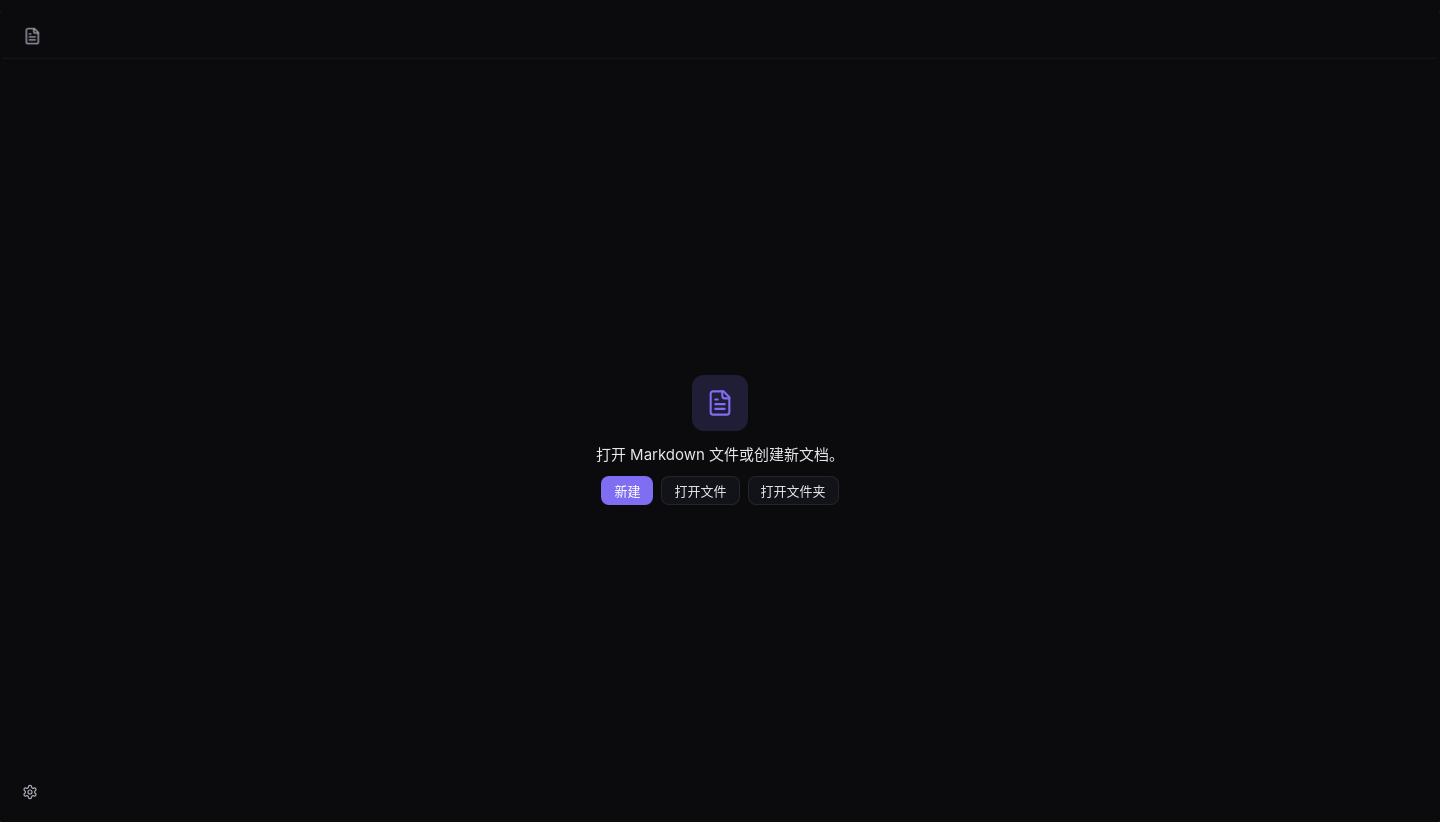
Scenario: AppShell custom file header › runs 新建 from the menu, closes it, and keeps focus on the toggle
The width and height of the screenshot is (1440, 822).
Click the button named "文件" at (32, 36), box [14,18,50,54]
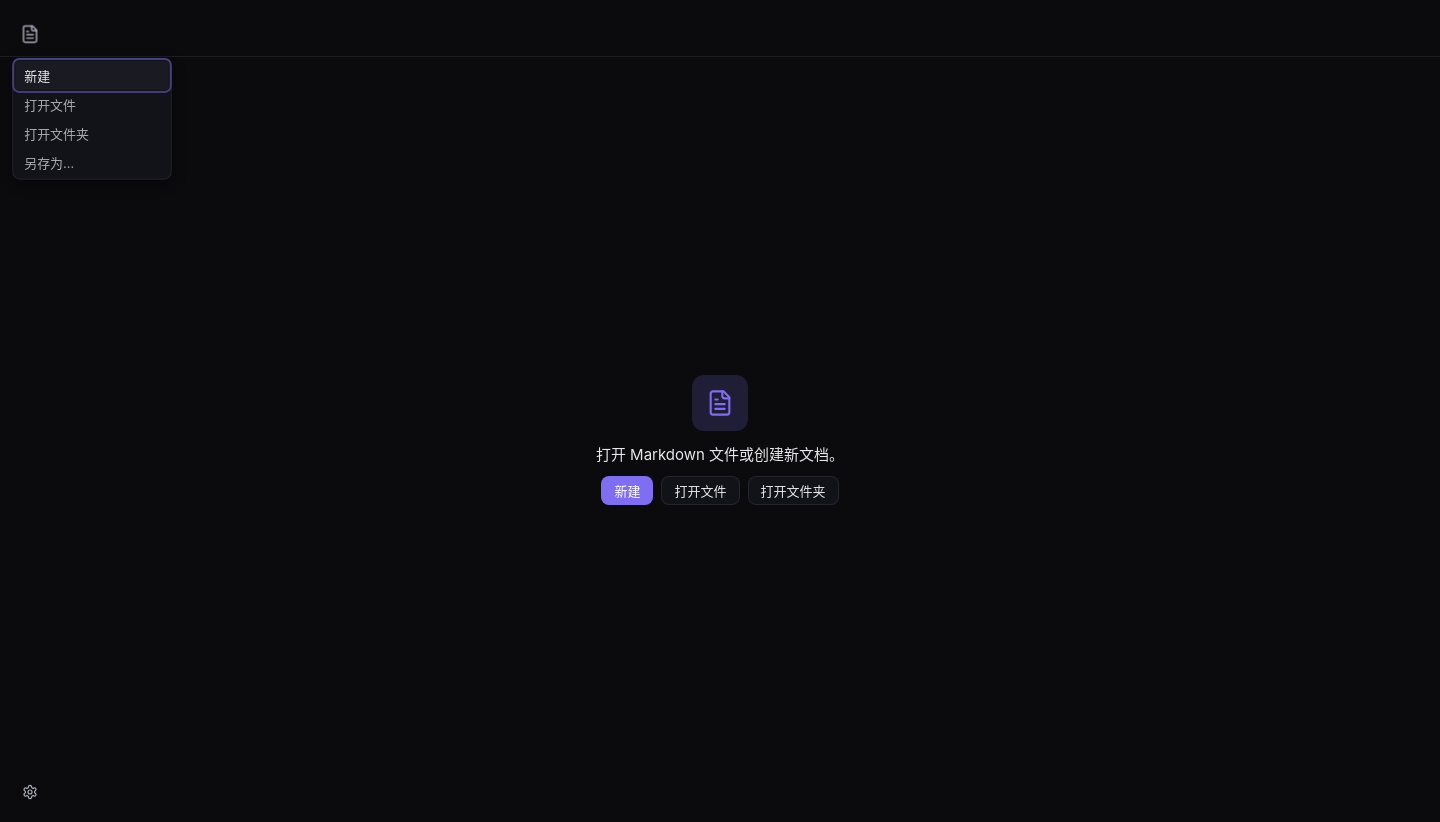
Click the menu item "新建" at (92, 75), box [15,61,169,90]
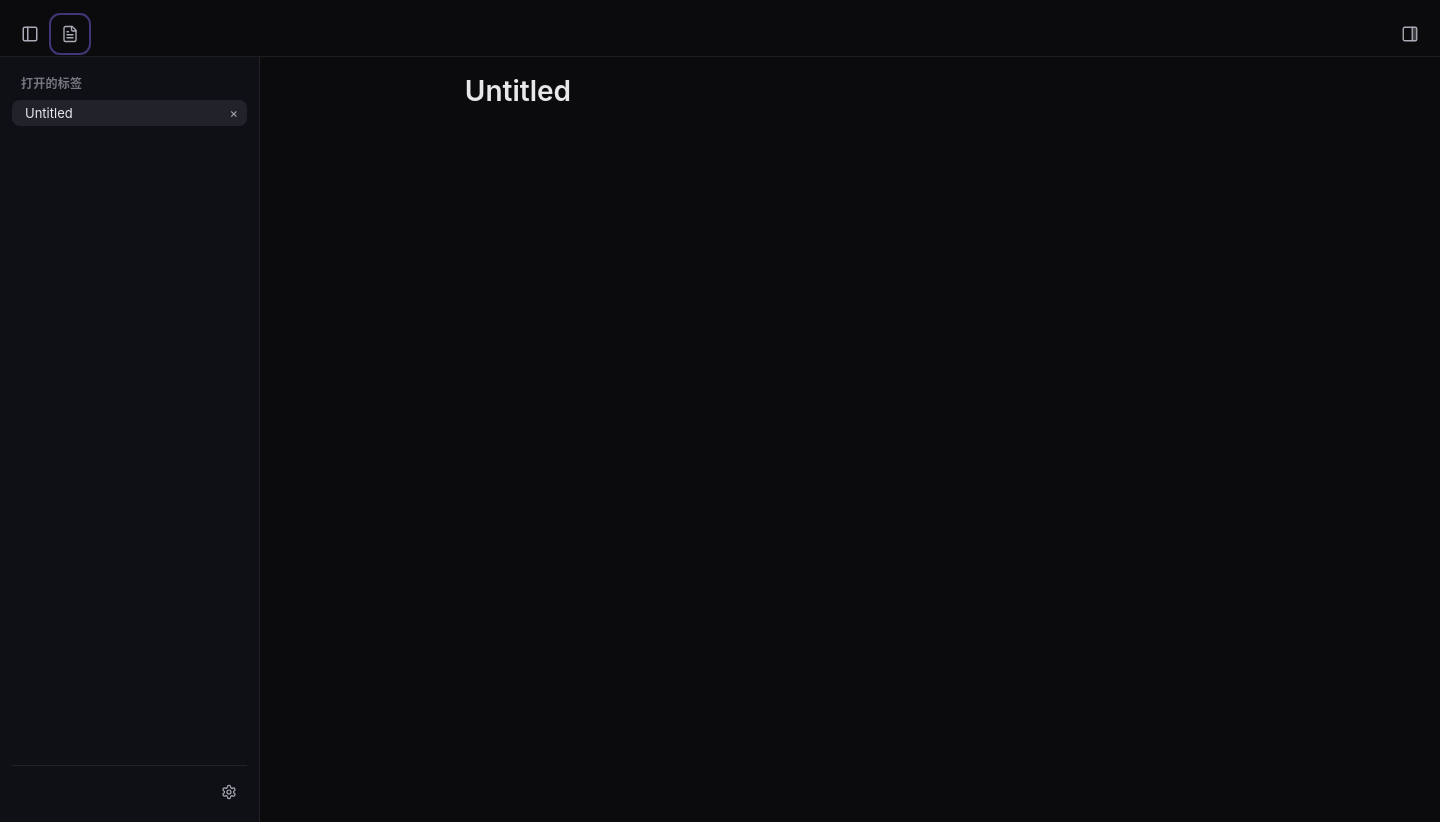
Expected: the tab "Untitled" is shown, [12,100,221,126]
Expected: the menu is gone
